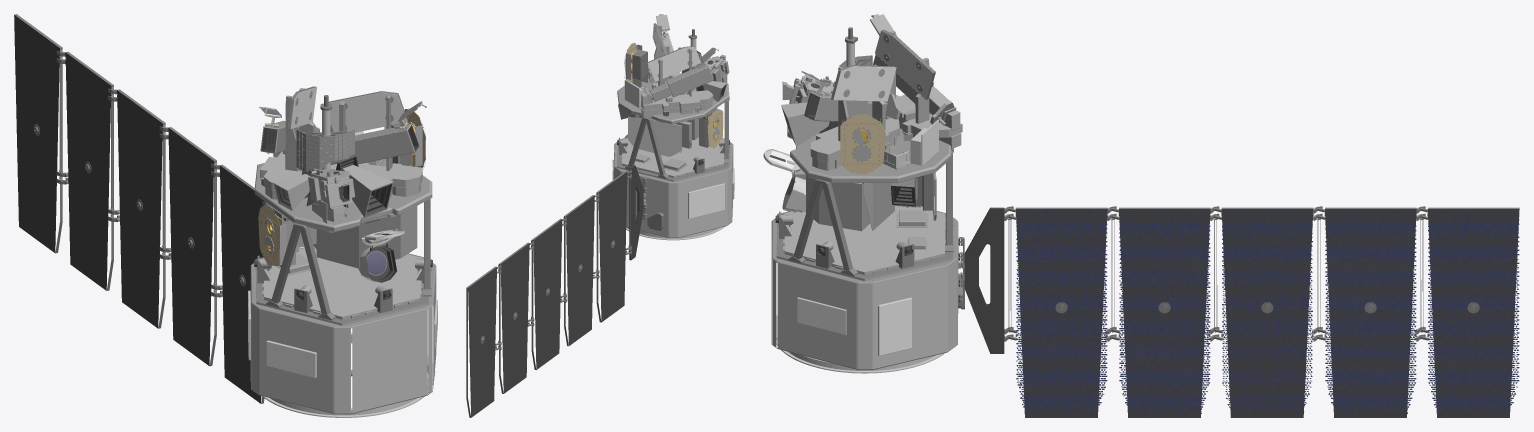
Rendered from ionospheric-connection-explorer-icon.glb.
3 renders of one model, left to right at view 1: azimuth 30°, elevation 25°; view 2: azimuth 150°, elevation 25°; view 3: azimuth 270°, elevation 25°, orthographic. The views are drawn at different scales.
Parts seen in each view (by area): view 1: BUS; view 2: BUS; view 3: BUS.
Boxes of the visible parts, x1,y1,x2,y2 form: BUS: [14, 14, 437, 417]; BUS: [466, 14, 734, 417]; BUS: [763, 14, 1519, 417].
Bounding box in the file's own units: 87.81 × 178 × 323.
